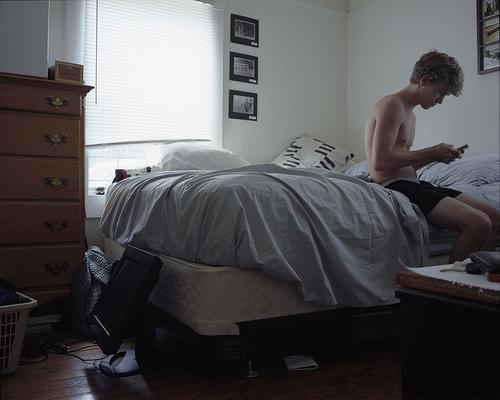person: (364, 50, 500, 264)
